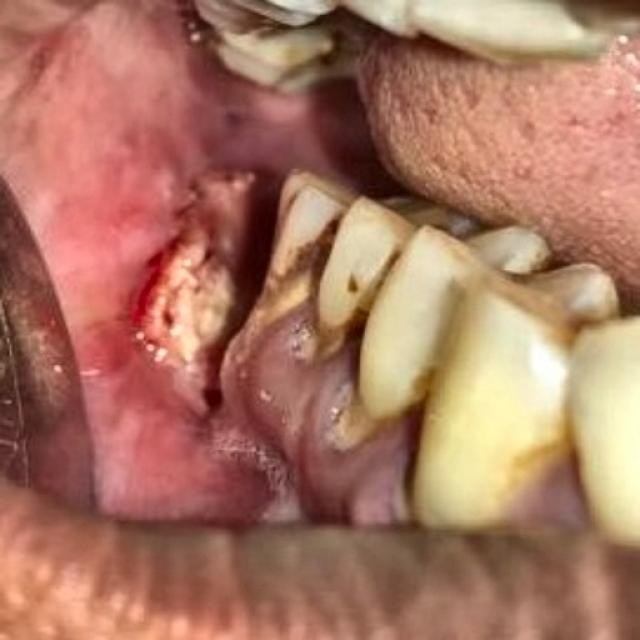cancer-detection: (89, 118, 263, 476)
processing_area: (0, 0, 639, 538)
